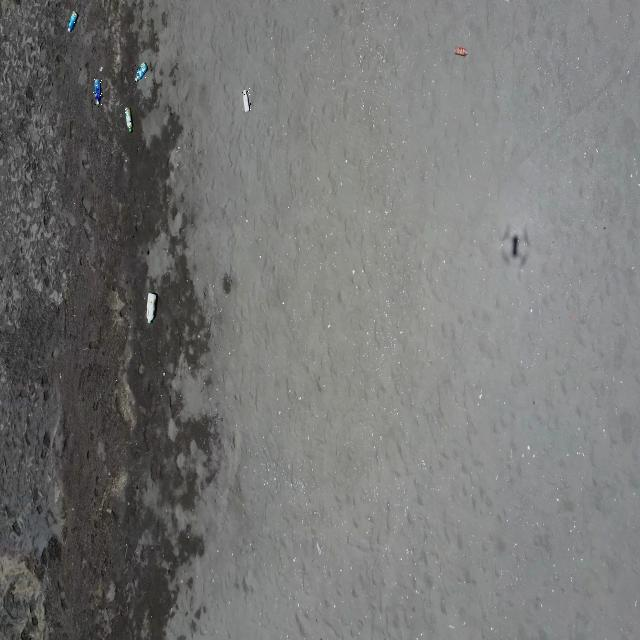plastic-bottle: (145, 292, 158, 326), (66, 10, 78, 32), (135, 62, 147, 84), (93, 80, 102, 108), (242, 88, 251, 114), (125, 107, 133, 134)
